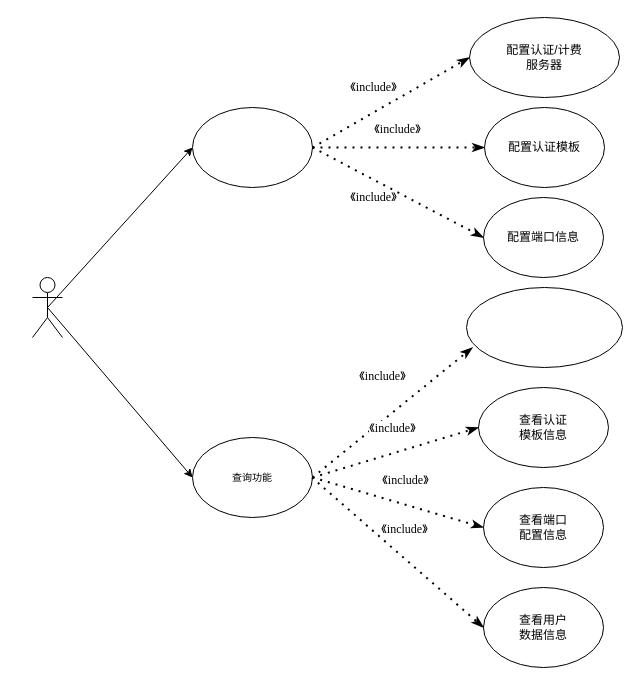
The diagram is 640 pixels wide and 685 high, and some of its shapes have lost their labels. Each missing label, with the box of its shape:
查看认证/计费 服务器信息: (466, 286, 622, 368)
网络管理员: (32, 276, 62, 338)
配置功能: (192, 106, 312, 188)
